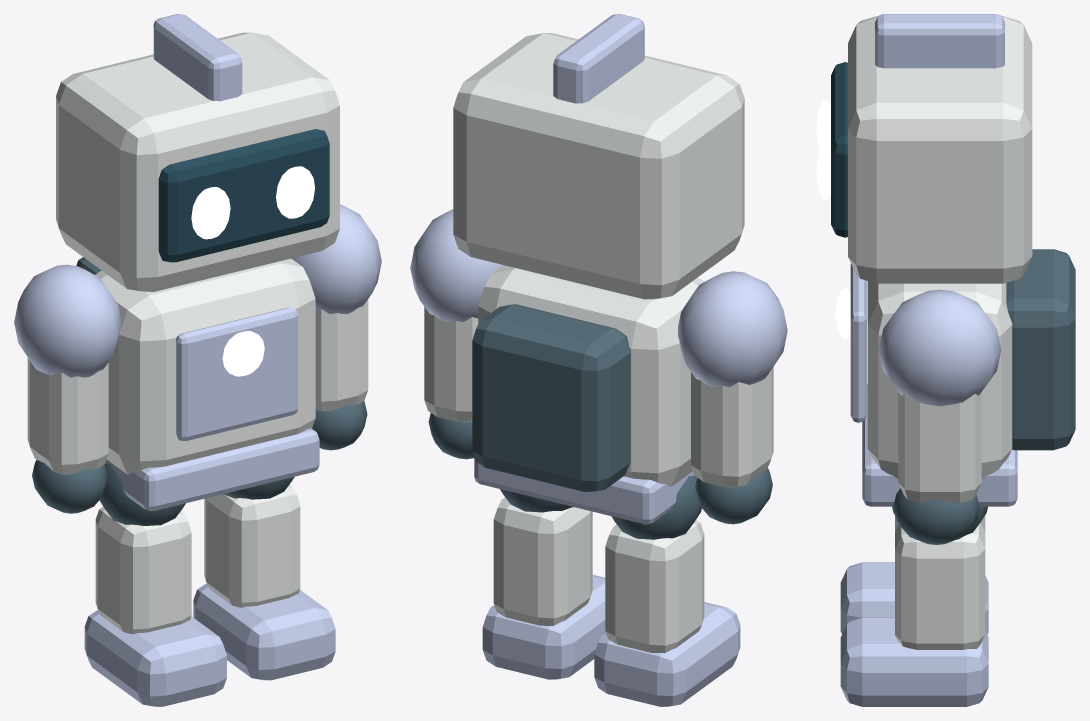
Rendered from lyra.glb.
3 renders of one model, left to right at view 1: azimuth 30°, elevation 25°; view 2: azimuth 150°, elevation 25°; view 3: azimuth 270°, elevation 25°, orthographic. The views are drawn at different scales.
Parts seen in each view (by area): view 1: Head, Torso, Visor, Chest plate, Leg.013, Leg, Boot.013, Shoulder.013, Boot, Belt, Arm.013, Shoulder (+9 smaller); view 2: Head, Pack, Torso, Leg.013, Leg, Shoulder.013, Boot.013, Arm.013, Boot, Shoulder, Crest, Belt (+5 smaller); view 3: Head, Pack, Shoulder, Torso, Boot, Leg, Arm, Crest, Belt, Boot.013, Hand, Visor (+4 smaller).
Part boxes in pixels (x1,y1,x2,y2): Head: [56, 32, 339, 292]; Torso: [95, 258, 315, 474]; Visor: [158, 129, 329, 262]; Chest plate: [176, 307, 298, 440]; Leg.013: [95, 507, 191, 634]; Leg: [204, 485, 300, 607]; Boot.013: [84, 610, 226, 706]; Shoulder.013: [14, 264, 120, 377]; Boot: [193, 583, 335, 680]; Belt: [105, 428, 319, 510]; Arm.013: [27, 357, 108, 474]; Shoulder: [291, 204, 381, 314]; Head: [453, 33, 744, 299]; Pack: [472, 304, 630, 491]; Torso: [478, 265, 704, 486]; Leg.013: [605, 520, 704, 653]; Leg: [493, 497, 592, 625]; Shoulder.013: [678, 271, 787, 387]; Boot.013: [594, 602, 740, 706]; Arm.013: [691, 367, 773, 487]; Boot: [482, 575, 605, 679]; Shoulder: [410, 209, 502, 322]; Crest: [553, 14, 644, 103]; Belt: [474, 457, 694, 524]; Head: [848, 16, 1032, 283]; Pack: [1006, 249, 1075, 450]; Shoulder: [878, 289, 1001, 406]; Torso: [867, 281, 1012, 478]; Boot: [840, 617, 988, 706]; Leg: [895, 523, 985, 649]; Arm: [898, 392, 981, 503]; Crest: [875, 14, 1004, 68]; Belt: [862, 384, 1017, 506]; Boot.013: [840, 562, 988, 634]; Hand: [893, 488, 979, 544]; Visor: [831, 62, 847, 237].
Size of the model in its own units: 1.16 by 1.98 by 0.717.
